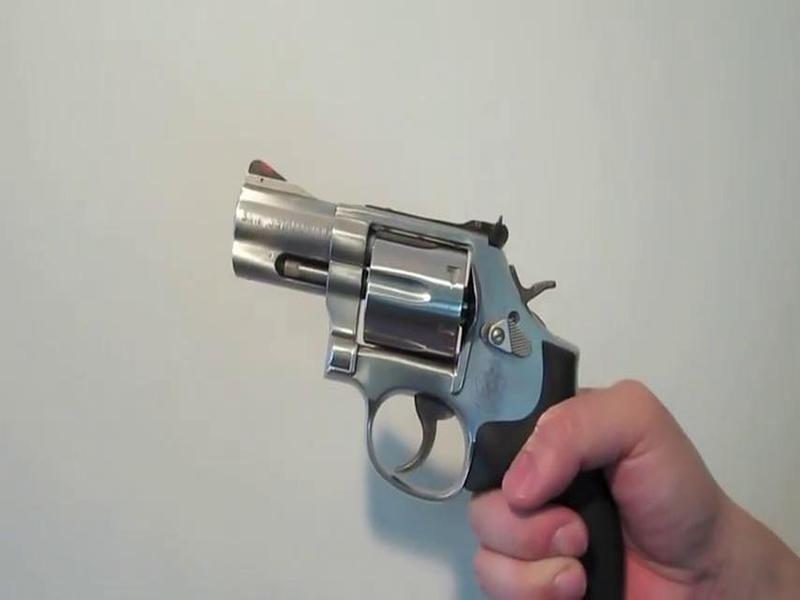Revolver: (199, 137, 706, 600)
